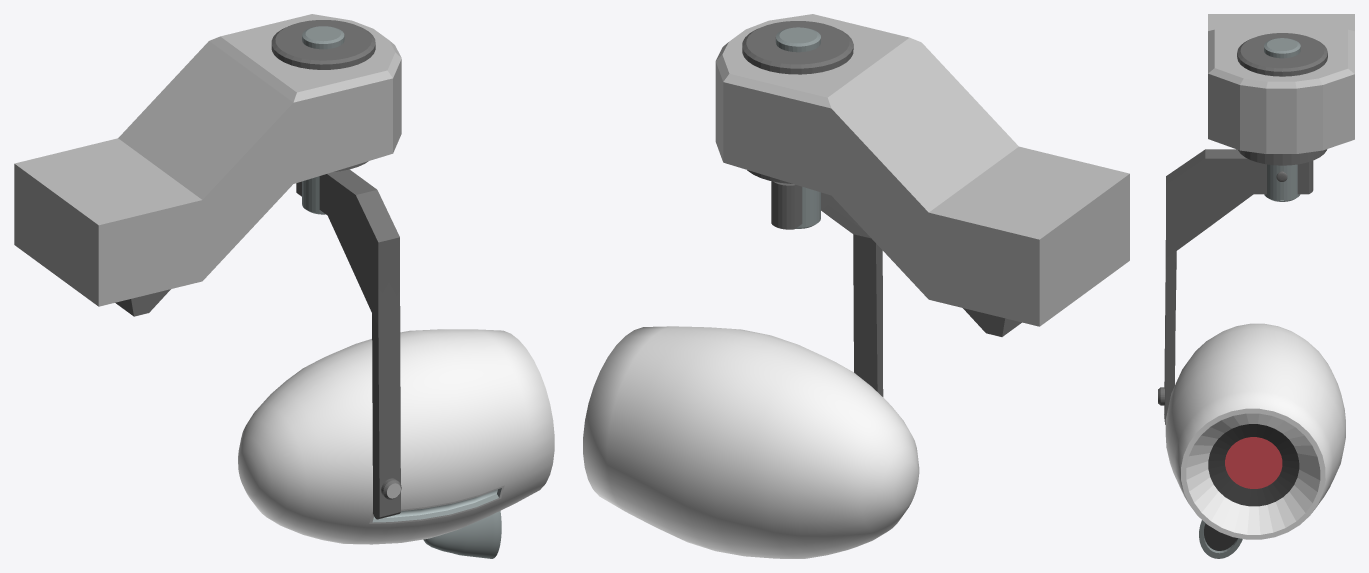
The model's file is SecurityCamera.fbx.
3 views of the same model, side by side, from view 1: azimuth 30°, elevation 25°; view 2: azimuth 150°, elevation 25°; view 3: azimuth 270°, elevation 25° (orthographic). The views are drawn at different scales.
Visible parts, largest first — view 1: Cube.002, Cylinder, Cube.001, Cylinder.005; view 2: Cube.002, Cylinder, Cube.001; view 3: Cylinder, Cube.002, Cube.001, Cylinder.005.
Part boxes in pixels (<box>): Cube.002: <box>14,14,401,316</box>; Cylinder: <box>238,329,554,544</box>; Cube.001: <box>271,20,400,519</box>; Cylinder.005: <box>423,511,501,558</box>; Cube.002: <box>715,14,1129,336</box>; Cylinder: <box>583,326,919,558</box>; Cube.001: <box>742,21,883,396</box>; Cylinder: <box>1158,323,1345,539</box>; Cube.002: <box>1208,14,1354,153</box>; Cube.001: <box>1164,33,1327,424</box>; Cylinder.005: <box>1199,520,1242,558</box>.
Bounding box in the file's own units: 554 × 631 × 245.
